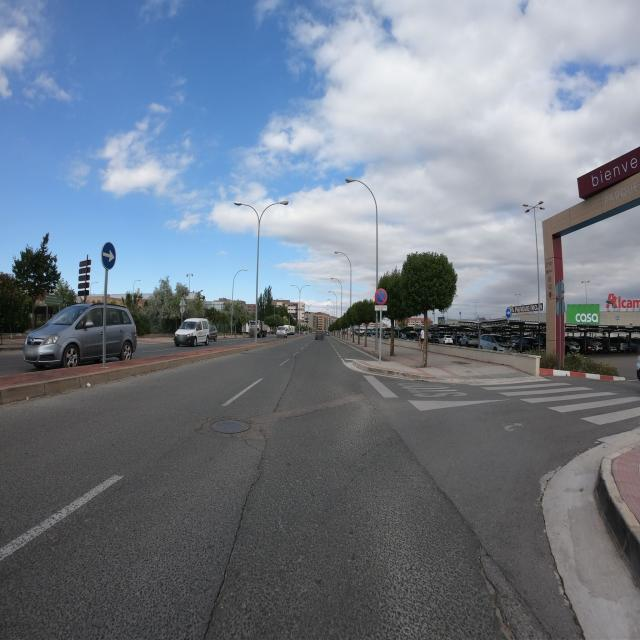car: (22, 302, 138, 370), (173, 317, 210, 347), (478, 334, 499, 351), (518, 337, 537, 352), (586, 339, 603, 353), (565, 340, 581, 354), (439, 333, 455, 346), (208, 324, 218, 342), (276, 326, 288, 338), (314, 329, 324, 341)
